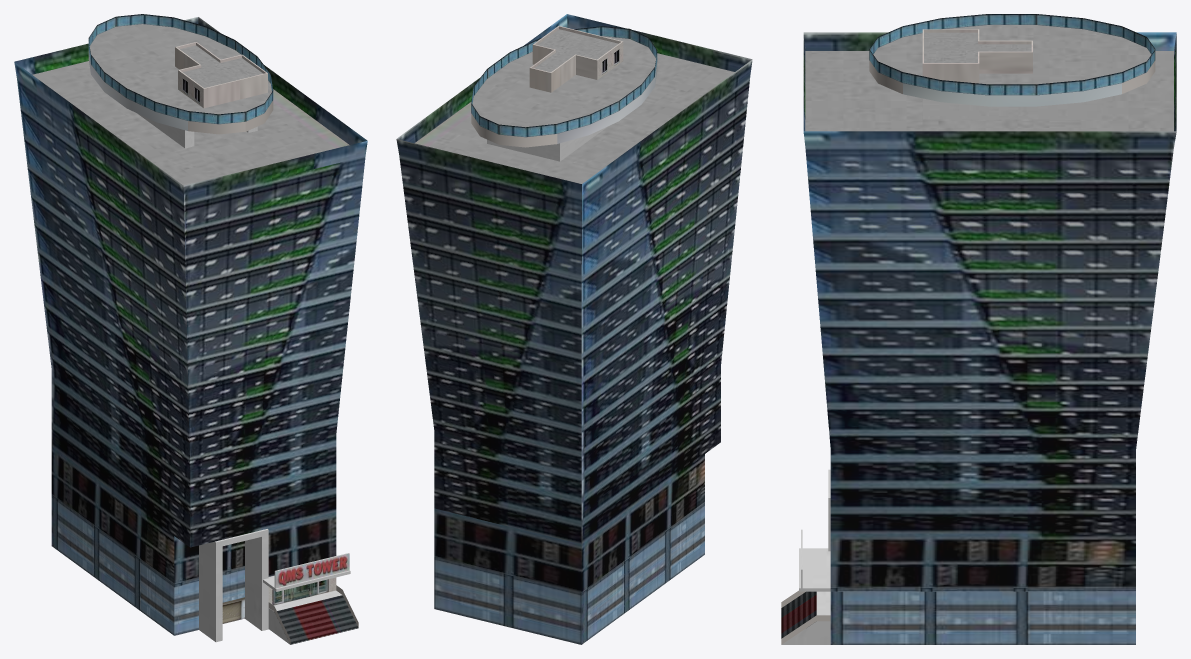
3 renders of one model, left to right at view 1: azimuth 30°, elevation 25°; view 2: azimuth 150°, elevation 25°; view 3: azimuth 270°, elevation 25°, orthographic. The views are drawn at different scales.
Visible parts, largest first — view 1: HN1106_QMSTOWERTonThatThuyet; view 2: HN1106_QMSTOWERTonThatThuyet; view 3: HN1106_QMSTOWERTonThatThuyet.
Boxes of the visible parts, x1,y1,x2,y2 form: HN1106_QMSTOWERTonThatThuyet: (14,14,367,644); HN1106_QMSTOWERTonThatThuyet: (396,14,752,644); HN1106_QMSTOWERTonThatThuyet: (781,14,1176,644).
Size of the model in its own units: 26.27 by 70.15 by 44.35.
Materials: 1 (1 with a texture image).
